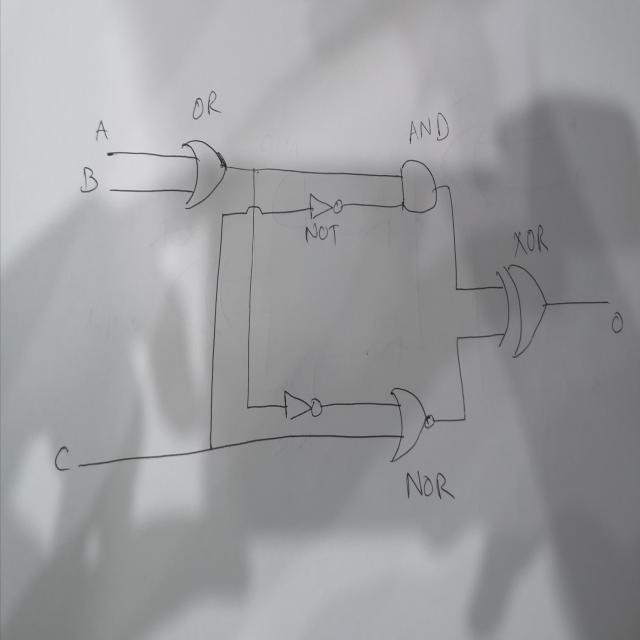crossover: (245, 201, 264, 218)
junction: (459, 408, 469, 426), (452, 332, 462, 346), (444, 178, 452, 194), (219, 208, 226, 222), (206, 441, 214, 453), (453, 283, 459, 294), (245, 401, 250, 412), (251, 164, 256, 174)
terminal: (74, 456, 83, 472), (104, 145, 112, 161), (604, 295, 612, 308), (107, 183, 113, 194)
text: (405, 468, 455, 504), (408, 112, 450, 146), (513, 225, 550, 256), (190, 90, 221, 120), (304, 221, 339, 246), (80, 160, 100, 194), (53, 443, 73, 474), (94, 117, 110, 147), (610, 309, 624, 335)
